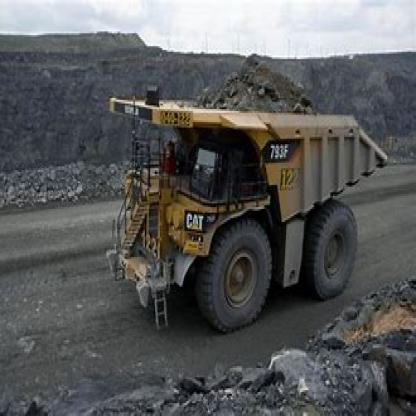dump_truck: (102, 54, 386, 340)
